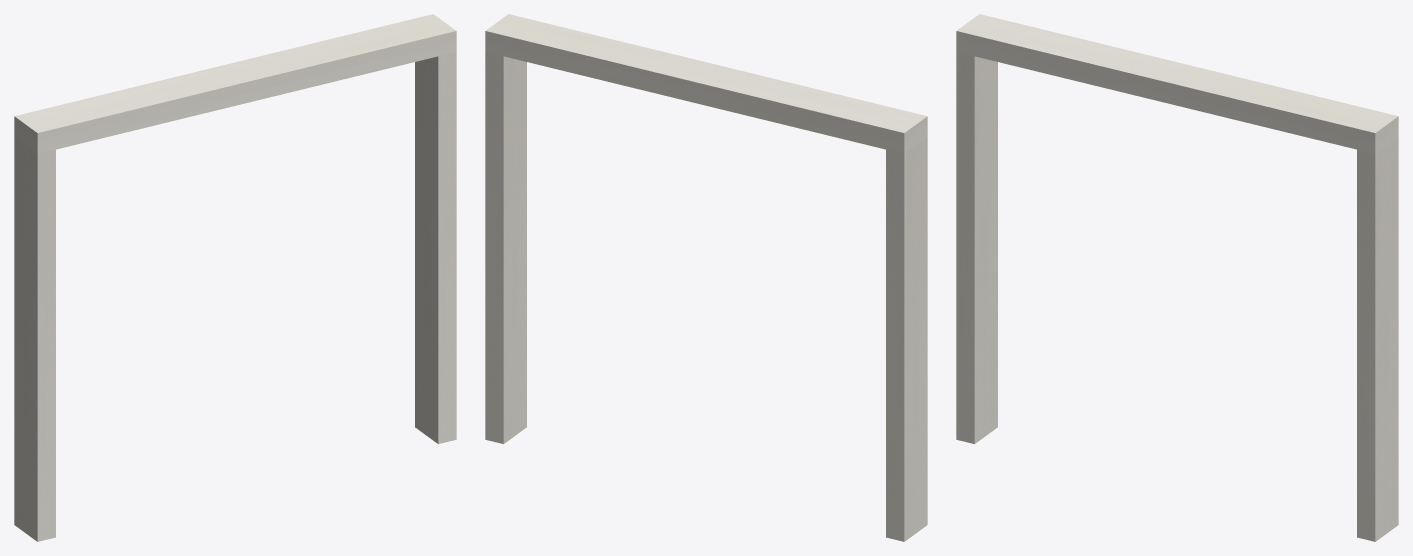
Rendered from open_doorway_casing.glb.
3 views of the same model, side by side, from view 1: azimuth 30°, elevation 25°; view 2: azimuth 150°, elevation 25°; view 3: azimuth 330°, elevation 25° (orthographic).
Parts seen in each view (by area): view 1: Straight painted doorway header, Straight painted doorway jamb, Straight painted doorway jamb.001; view 2: Straight painted doorway header, Straight painted doorway jamb, Straight painted doorway jamb.001; view 3: Straight painted doorway header, Straight painted doorway jamb.001, Straight painted doorway jamb.
Part boxes in pixels (<box>): Straight painted doorway header: <box>14,14,456,153</box>; Straight painted doorway jamb: <box>14,137,55,541</box>; Straight painted doorway jamb.001: <box>415,52,456,444</box>; Straight painted doorway header: <box>485,14,927,153</box>; Straight painted doorway jamb: <box>886,137,927,541</box>; Straight painted doorway jamb.001: <box>485,52,526,444</box>; Straight painted doorway header: <box>956,14,1398,153</box>; Straight painted doorway jamb.001: <box>1357,137,1398,541</box>; Straight painted doorway jamb: <box>956,52,997,444</box>.
Bounding box in the file's own units: 2.51 × 2.34 × 0.24.
1 material, 1 textured.
